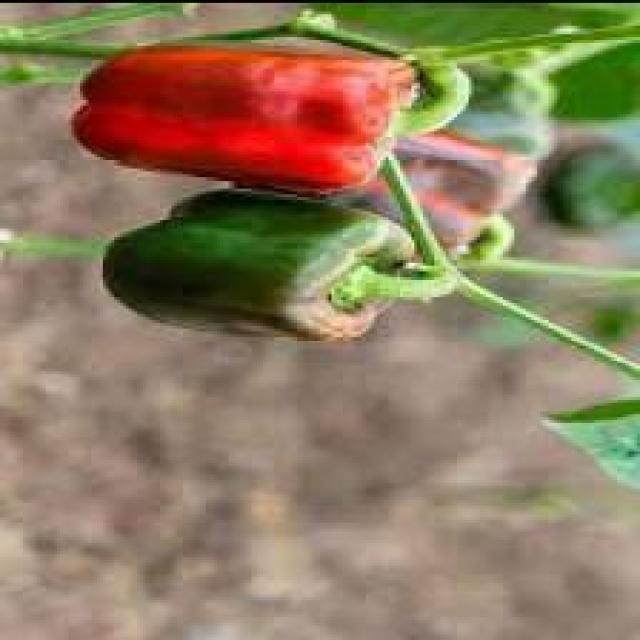Pepper: (103, 180, 509, 343), (69, 43, 463, 200)
